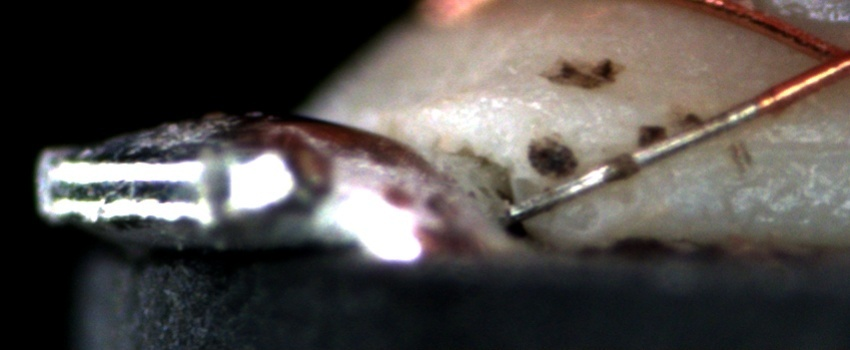CL: (796, 29, 848, 87)
DL: (740, 111, 850, 175)
TS: (507, 102, 760, 220)
